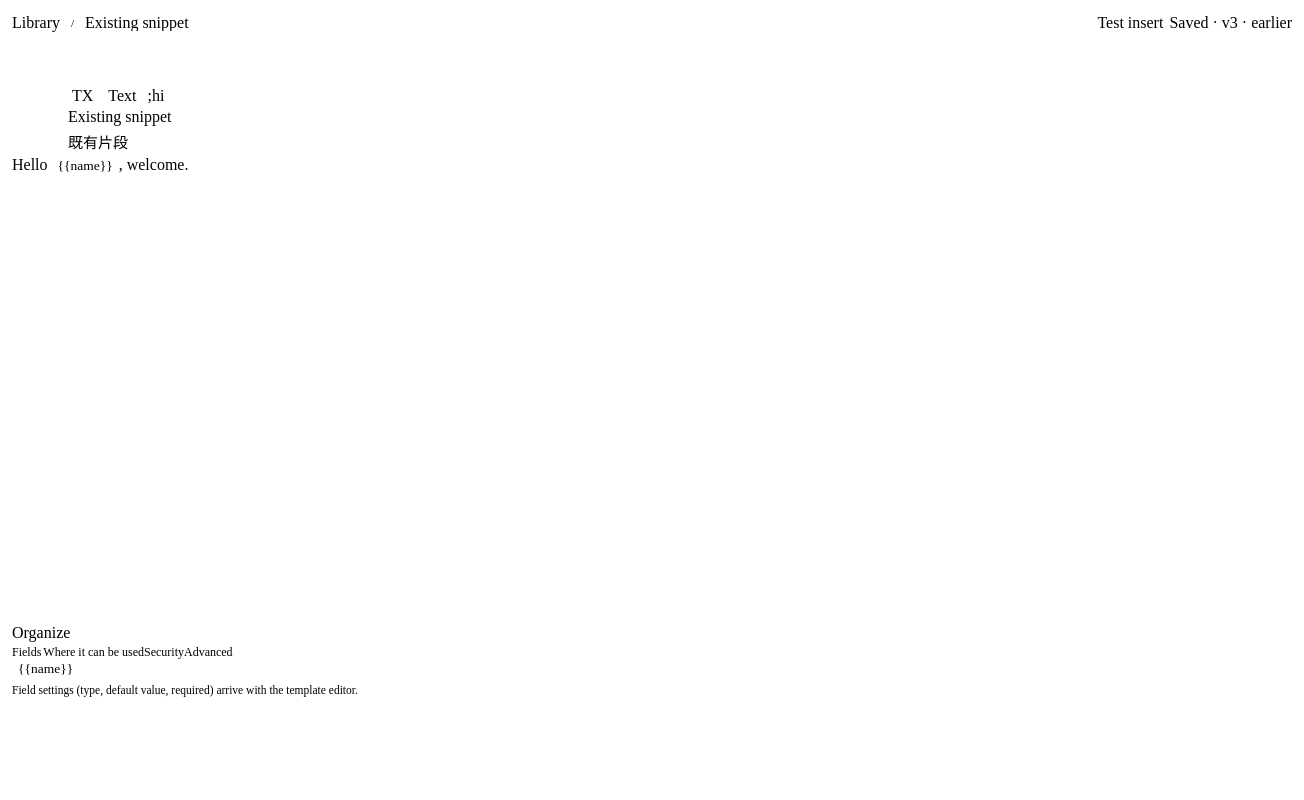
Test: EditorPage › shows the sensitive hint as advice while the save still succeeds
This screenshot has width=1304, height=800.
Replace the text in the field named "Snippet title" with "Now with a token" at (652, 117), box left=68, top=108, right=1236, bottom=126
Wait 900 ms
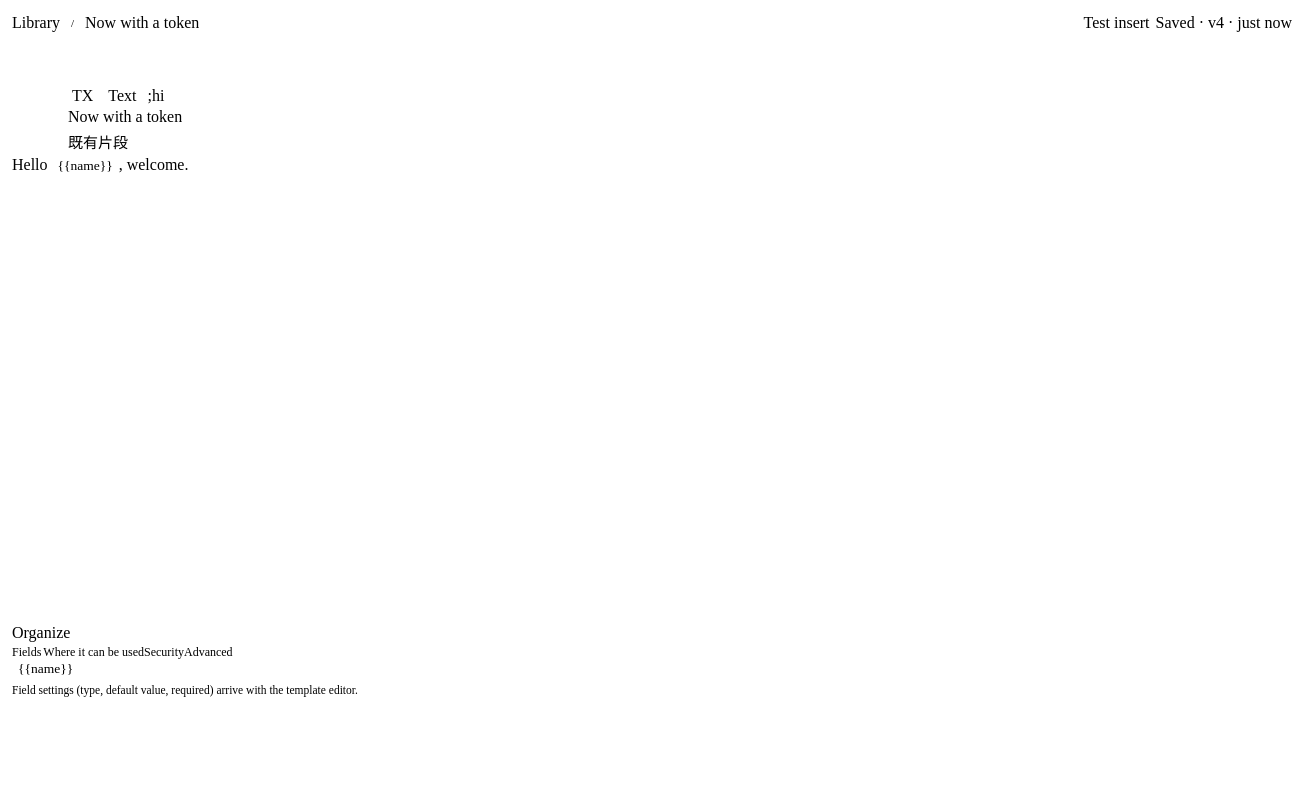
Expected: the message shows "Saved", left=1156, top=14, right=1292, bottom=31
Click the tab "Security" at (164, 652), box left=144, top=646, right=184, bottom=658
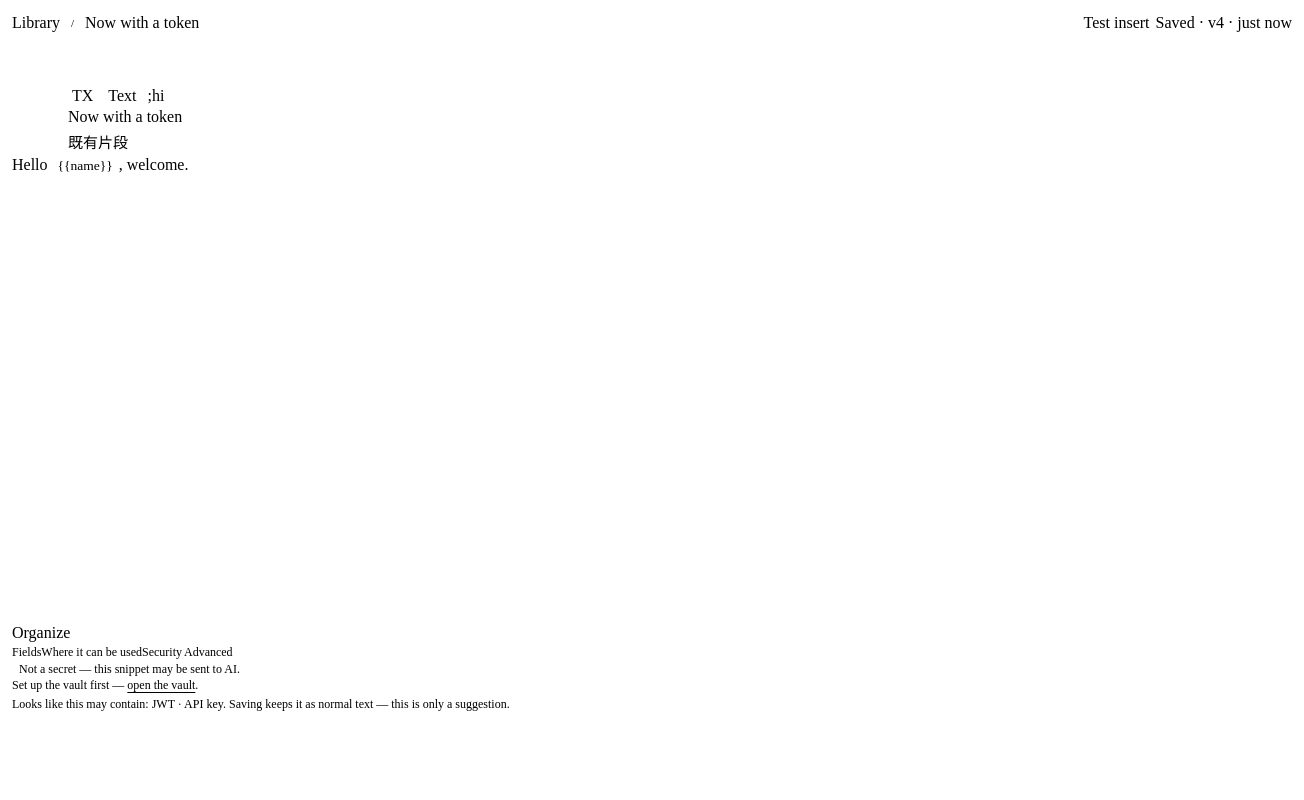
Expected: the text "Looks like this may contain: JWT · API key" is shown, left=12, top=697, right=226, bottom=711
Expected: the text "only a suggestion" is shown, left=229, top=697, right=510, bottom=711
